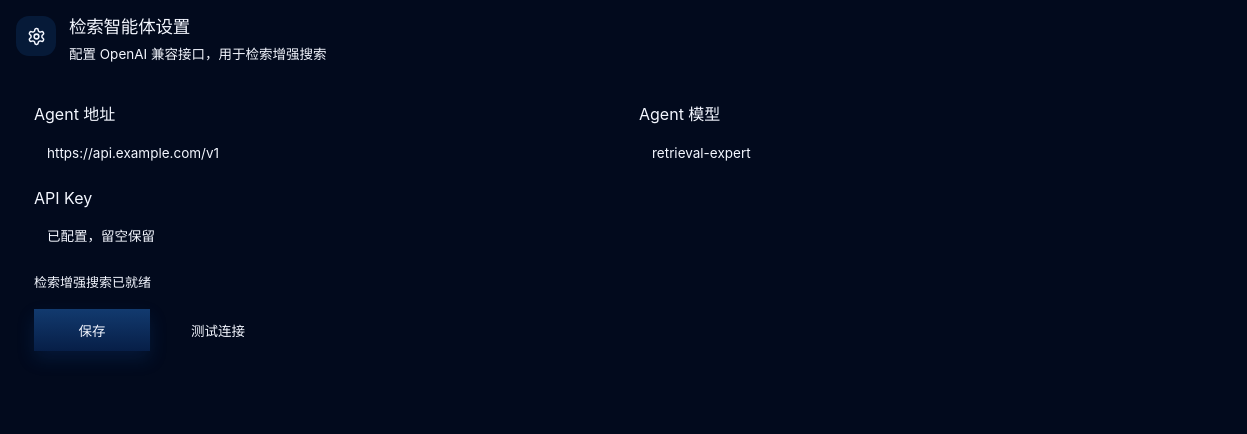
Scenario: AgentSettingsCard › shows a failed agent test
The width and height of the screenshot is (1247, 434).
Click the button "测试连接": click(218, 330) [160,309,276,351]
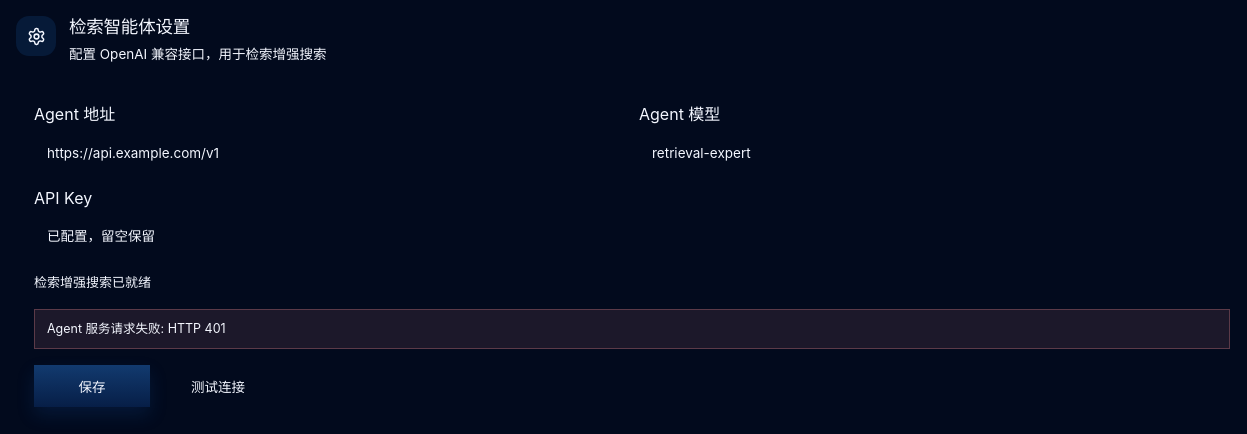
Now the text "Agent 服务请求失败: HTTP 401" is shown, box [34,309,1230,349]
